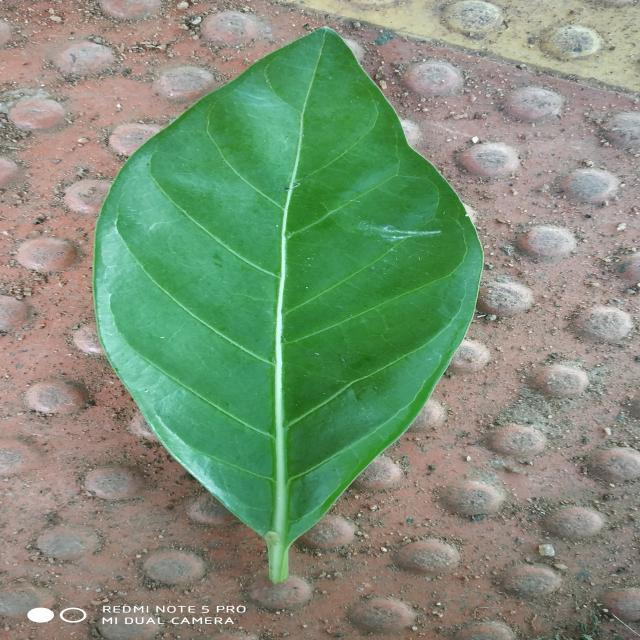nooni: (93, 28, 482, 581)
